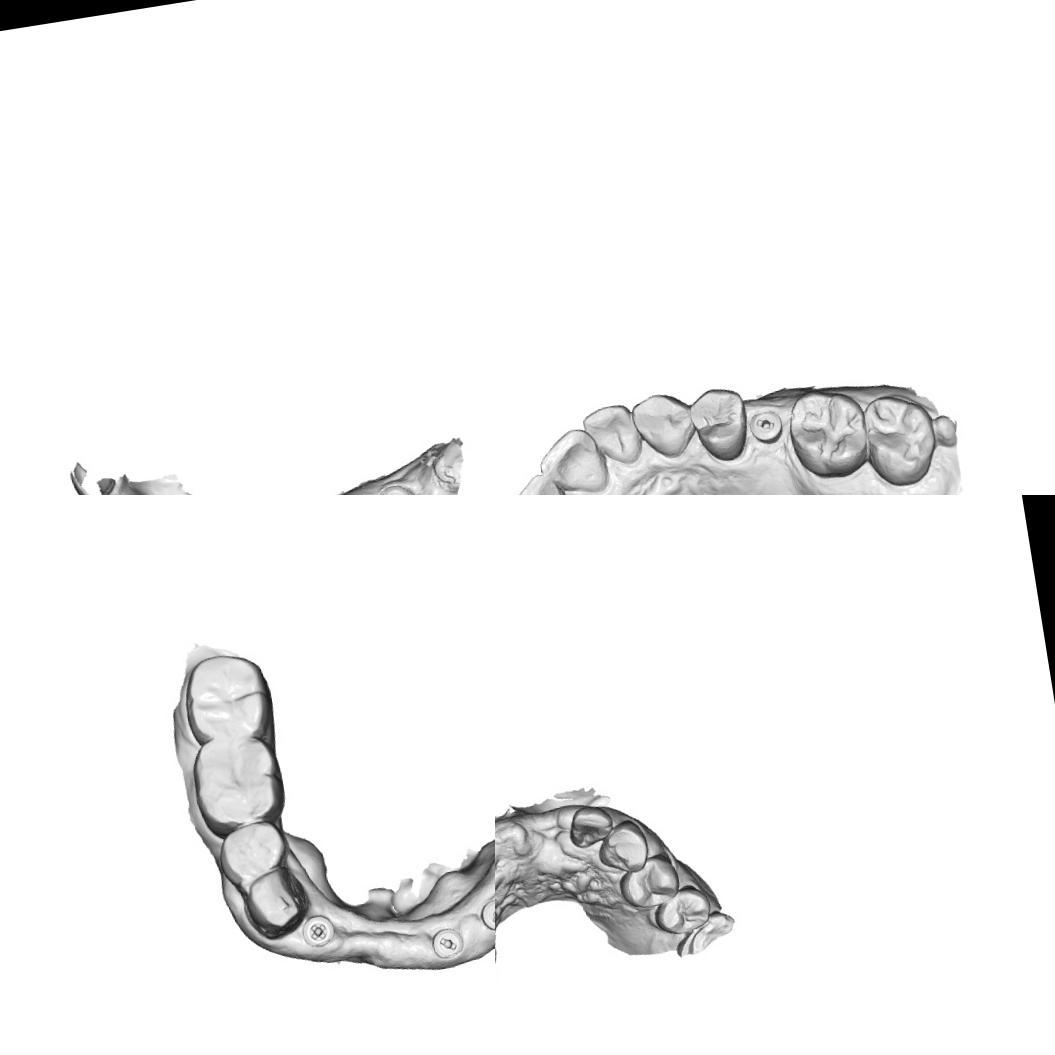canine: (628, 386, 698, 466), (594, 816, 650, 878)
implant: (374, 475, 419, 495)
implant_minus: (746, 405, 787, 446), (428, 924, 468, 962), (477, 895, 495, 933)
implant_plus: (298, 911, 339, 951)
incisor: (532, 423, 613, 495), (577, 400, 644, 472), (564, 802, 616, 850), (501, 465, 581, 495)
molar: (186, 730, 292, 844), (177, 647, 278, 750), (780, 380, 876, 485), (856, 386, 942, 493)
premolar: (213, 816, 294, 896), (238, 862, 313, 944), (684, 380, 754, 467), (615, 852, 683, 912), (650, 881, 714, 938)
